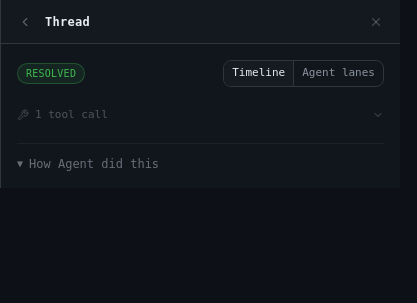
ThreadDetail — consult_agent card › renders the consulted label when consult_agent result matches format
Click the button "1 tool call".
click(71, 114)  # box [17,102,384,127]
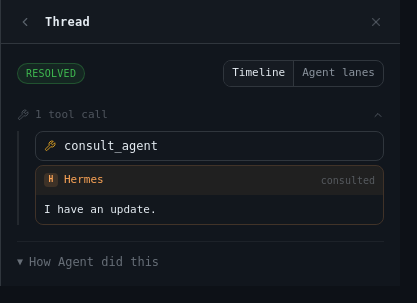
expect the text "consulted" is shown: met, box [321,173,375,188]
